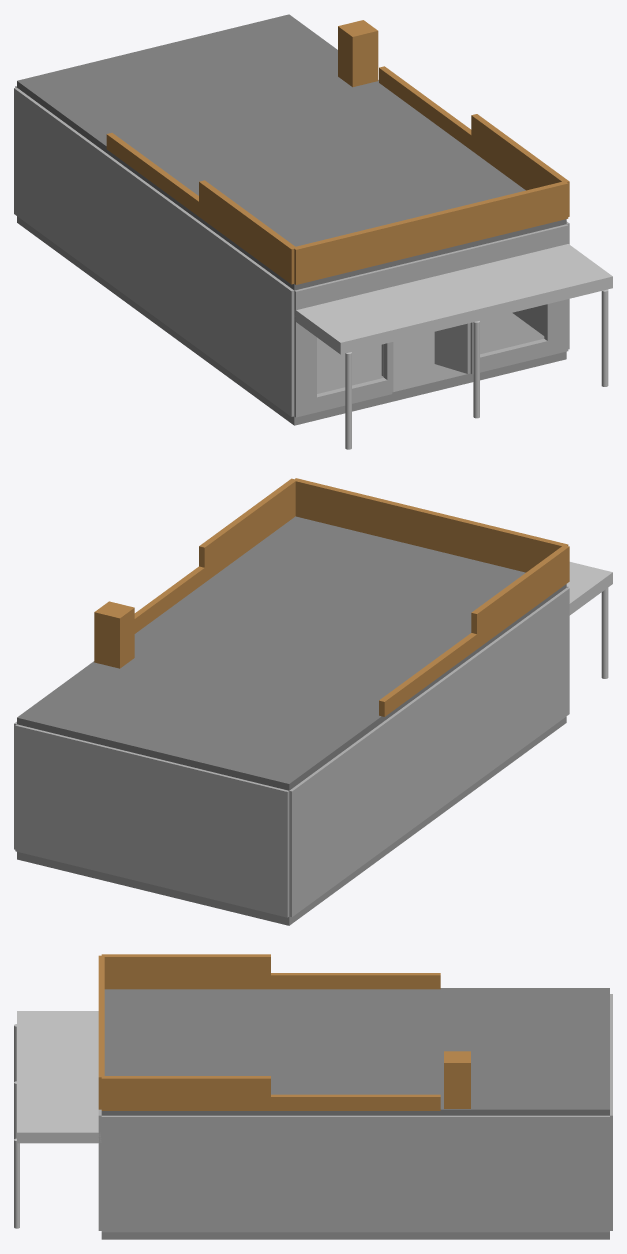
Rendered from building_iteration_025.glb.
3 views of the same model, one above another, from view 1: azimuth 30°, elevation 25°; view 2: azimuth 150°, elevation 25°; view 3: azimuth 270°, elevation 25° (orthographic). The views are drawn at different scales.
Parts seen in each view (by area): view 1: Roof, Wall_Left, Canopy_Roof, Wall_Front, Foundation, Parapet_Front, Parapet_Left_Front, Parapet_Right_Front, Chimney, Parapet_Right_Middle, Parapet_Left_Middle, Alcove_Wall_Right (+4 smaller); view 2: Roof, Wall_Left, Wall_Rear, Parapet_Front, Foundation, Parapet_Left_Front, Parapet_Right_Front, Chimney, Parapet_Left_Middle, Canopy_Roof, Parapet_Right_Middle, Canopy_Post_1; view 3: Wall_Right, Roof, Canopy_Roof, Parapet_Left_Front, Parapet_Right_Front, Foundation, Parapet_Left_Middle, Parapet_Right_Middle, Chimney, Parapet_Front, Wall_Rear, Canopy_Post_3 (+1 smaller).
Part boxes in pixels (x1=…): Roof: x1=17, y1=14, x2=566, y2=290; Wall_Left: x1=14, y1=87, x2=294, y2=416; Canopy_Roof: x1=294, y1=244, x2=612, y2=354; Wall_Front: x1=294, y1=224, x2=568, y2=417; Foundation: x1=17, y1=216, x2=566, y2=425; Parapet_Front: x1=294, y1=182, x2=568, y2=284; Parapet_Left_Front: x1=199, y1=180, x2=296, y2=284; Parapet_Right_Front: x1=471, y1=114, x2=569, y2=216; Chimney: x1=338, y1=20, x2=378, y2=87; Parapet_Right_Middle: x1=379, y1=66, x2=471, y2=149; Parapet_Left_Middle: x1=106, y1=133, x2=198, y2=216; Alcove_Wall_Right: x1=434, y1=323, x2=470, y2=373; Roof: x1=17, y1=516, x2=566, y2=790; Wall_Left: x1=289, y1=588, x2=569, y2=916; Wall_Rear: x1=15, y1=724, x2=289, y2=917; Parapet_Front: x1=295, y1=478, x2=568, y2=572; Foundation: x1=17, y1=716, x2=566, y2=925; Parapet_Left_Front: x1=471, y1=545, x2=569, y2=648; Parapet_Right_Front: x1=199, y1=478, x2=296, y2=582; Chimney: x1=94, y1=601, x2=134, y2=668; Parapet_Left_Middle: x1=379, y1=633, x2=476, y2=716; Canopy_Roof: x1=566, y1=562, x2=612, y2=615; Parapet_Right_Middle: x1=134, y1=566, x2=204, y2=633; Canopy_Post_1: x1=601, y1=588, x2=608, y2=678; Wall_Right: x1=101, y1=1115, x2=609, y2=1232; Roof: x1=101, y1=988, x2=609, y2=1115; Canopy_Roof: x1=17, y1=1011, x2=101, y2=1143; Parapet_Left_Front: x1=101, y1=954, x2=270, y2=989; Parapet_Right_Front: x1=101, y1=1076, x2=270, y2=1110; Foundation: x1=101, y1=1232, x2=609, y2=1239; Parapet_Left_Middle: x1=271, y1=973, x2=440, y2=989; Parapet_Right_Middle: x1=271, y1=1094, x2=440, y2=1110; Chimney: x1=444, y1=1051, x2=470, y2=1108; Parapet_Front: x1=98, y1=955, x2=104, y2=1109; Wall_Rear: x1=610, y1=994, x2=612, y2=1230; Canopy_Post_3: x1=14, y1=1138, x2=19, y2=1228.
Size of the model in its own units: 8.68 by 5.73 by 17.68.
